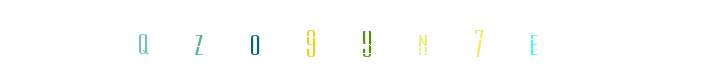7: (394, 0, 474, 80)
9: (278, 0, 358, 80), (320, 0, 400, 80)
E: (492, 0, 572, 80)
N: (327, 0, 407, 80)
O: (271, 0, 351, 80)
Q: (137, 0, 217, 80)
Z: (215, 0, 295, 80)
